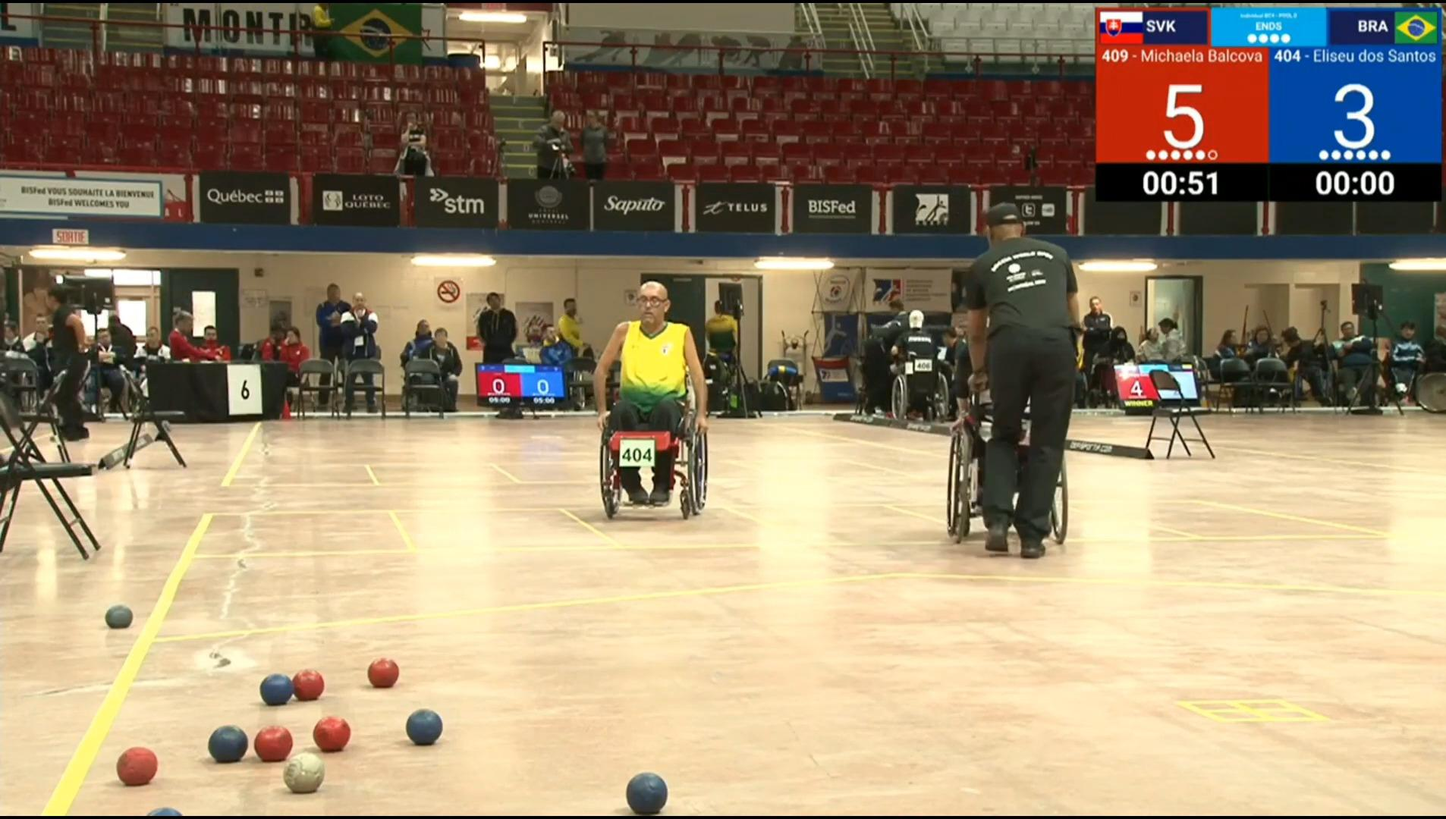blue_ball: (622, 769, 670, 817), (402, 705, 446, 751), (207, 723, 250, 765), (258, 671, 295, 708), (104, 603, 135, 633)
red_ball: (112, 744, 159, 789), (313, 713, 353, 756), (252, 724, 295, 764), (289, 666, 327, 703), (364, 656, 401, 691)
white_ball: (280, 749, 329, 798)
